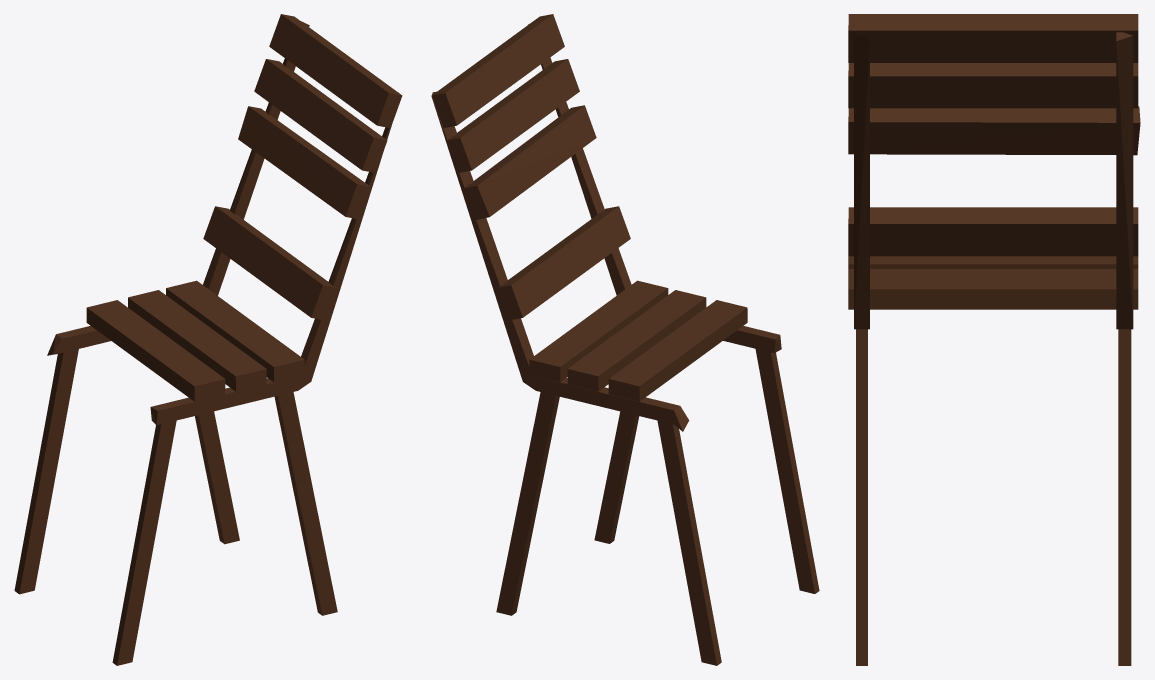
File: Model_Parasole1.fbx
The picture shows the model from 3 angles, left to right: view 1: azimuth 30°, elevation 25°; view 2: azimuth 150°, elevation 25°; view 3: azimuth 270°, elevation 25°; orthographic projection. The views are drawn at different scales.
Visible parts, largest first — view 1: Cube.001; view 2: Cube.001; view 3: Cube.001.
Boxes of the visible parts, x1,y1,x2,y2 form: Cube.001: (14, 14, 402, 665); Cube.001: (431, 14, 819, 665); Cube.001: (848, 14, 1140, 665).
Size of the model in its own units: 50.37 by 130 by 77.44.
